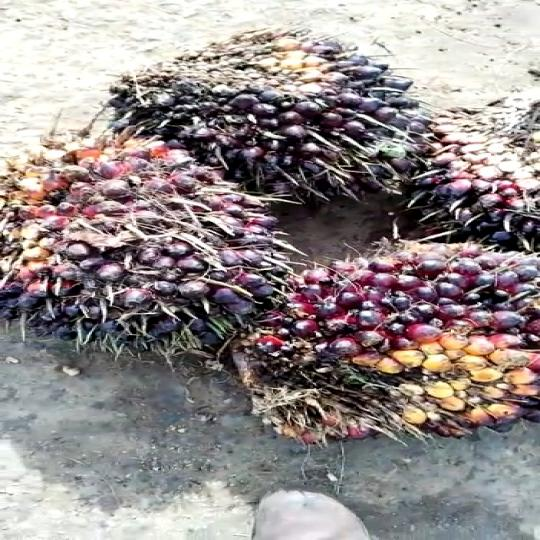kurang masak: (0, 106, 282, 361), (234, 243, 540, 454), (108, 26, 448, 214)
